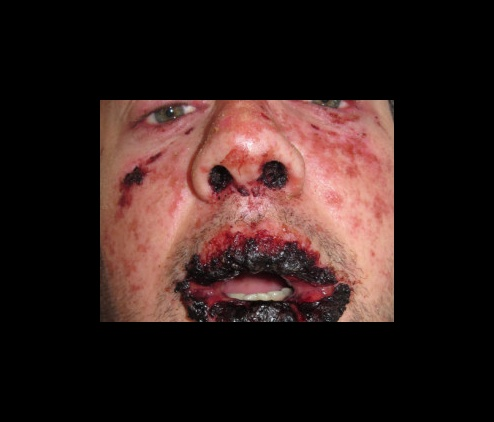SJS-TEN: (171, 218, 356, 329), (91, 105, 204, 232), (205, 153, 294, 204)
